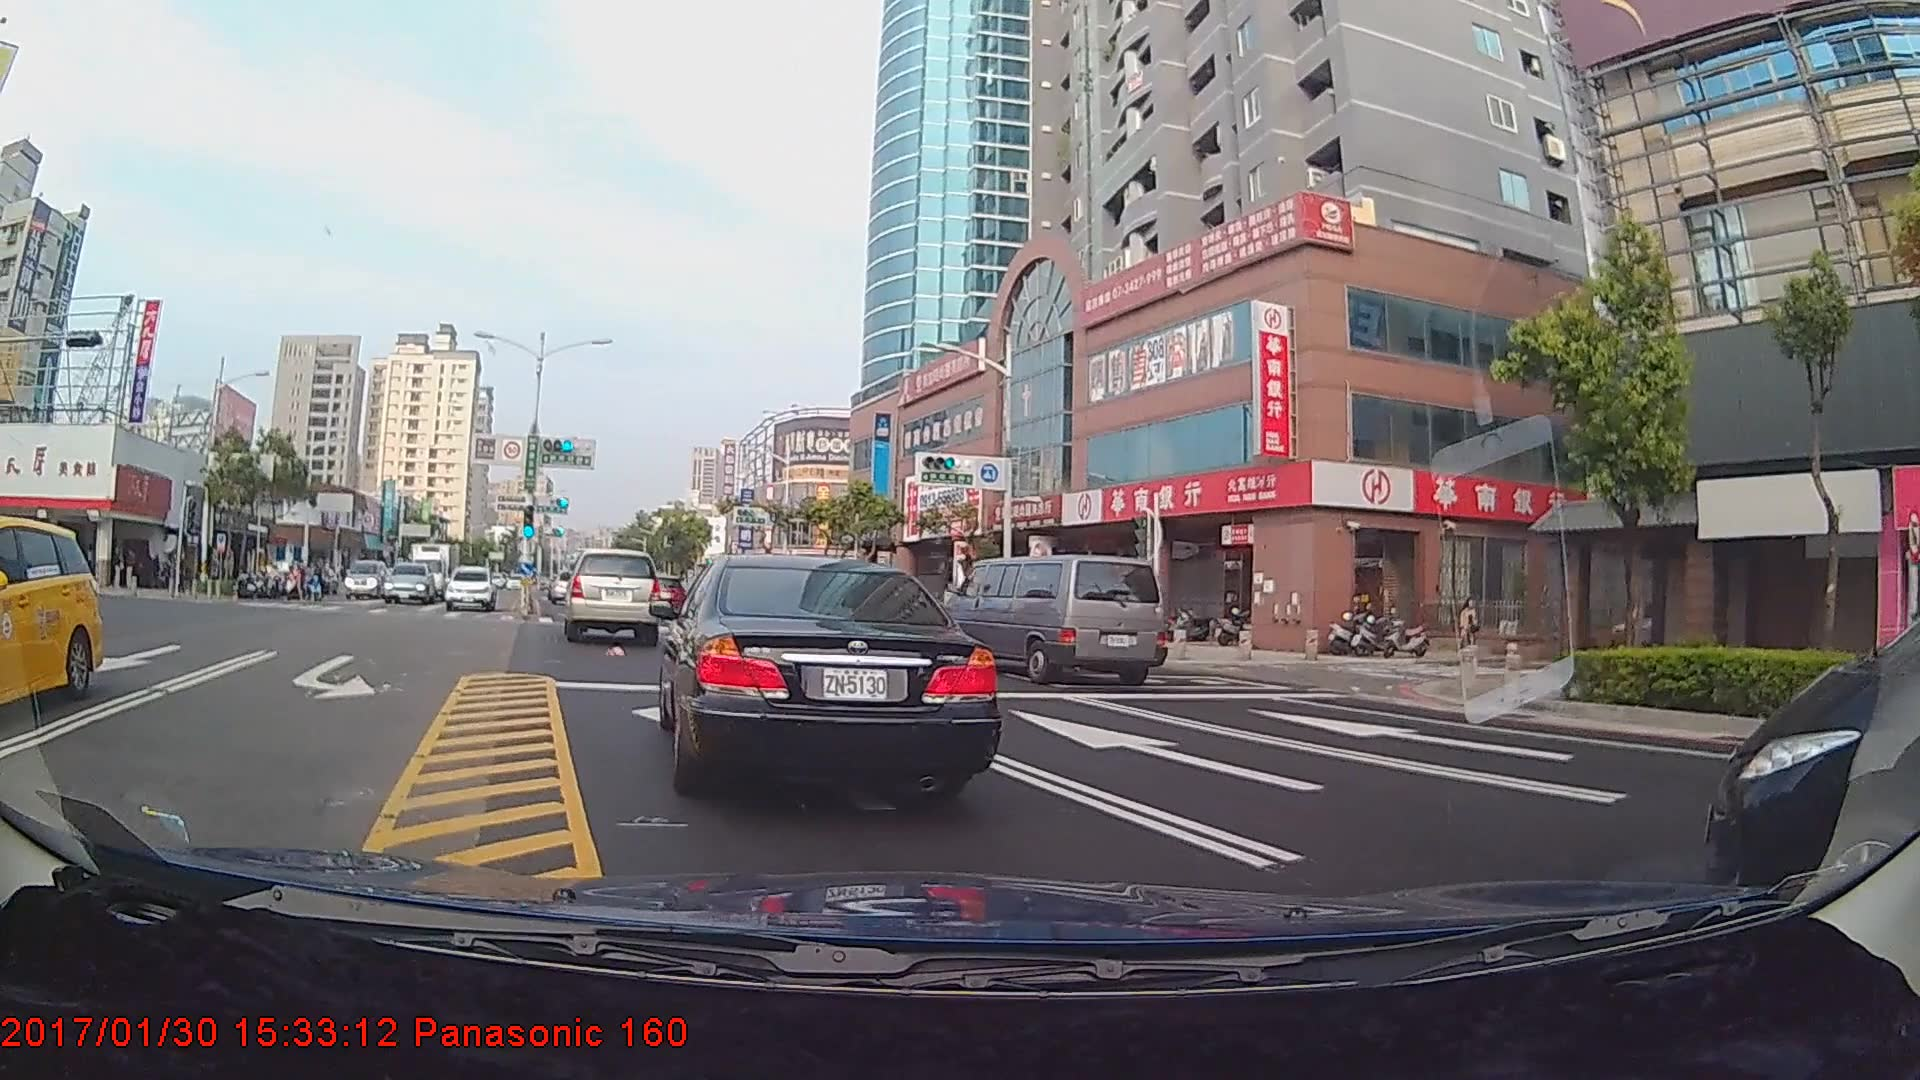pedestrian: (1459, 597, 1482, 661)
vehicle: (667, 548, 993, 795), (1717, 637, 1914, 893), (942, 553, 1165, 687), (0, 516, 101, 718), (563, 549, 659, 640), (411, 538, 465, 598), (445, 564, 495, 612), (382, 562, 436, 605), (343, 558, 391, 601), (541, 568, 580, 603)
